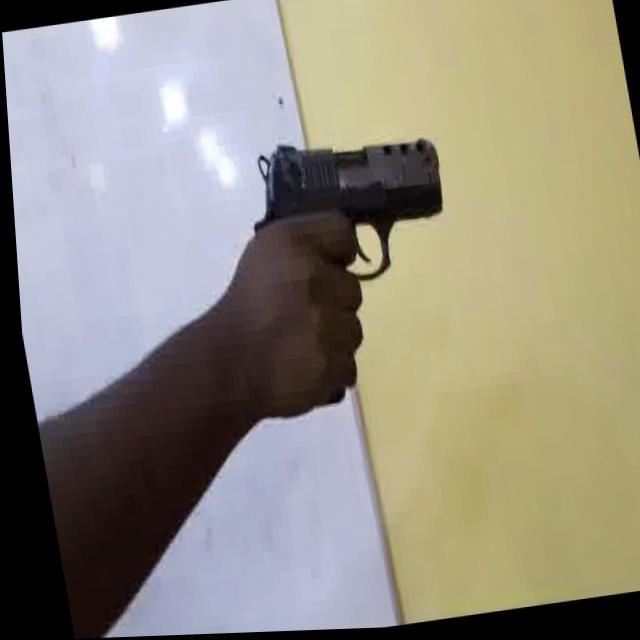weapon: (232, 124, 456, 302)
